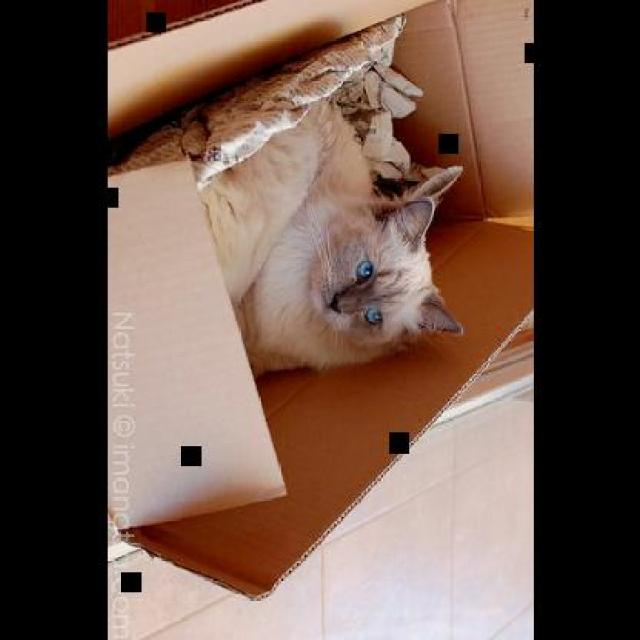unauthorized: (108, 92, 466, 378)
